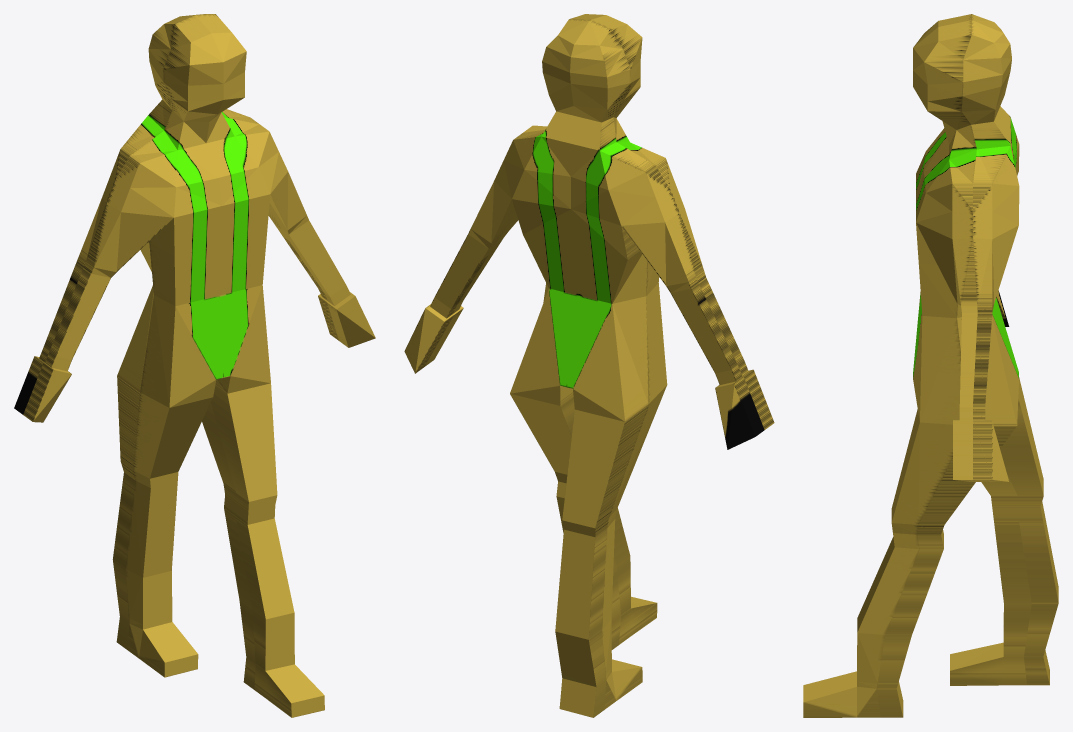
The picture shows the model from 3 angles, left to right: view 1: azimuth 30°, elevation 25°; view 2: azimuth 150°, elevation 25°; view 3: azimuth 270°, elevation 25°; orthographic projection. The views are drawn at different scales.
Parts seen in each view (by area): view 1: Borat; view 2: Borat; view 3: Borat.
Part boxes in pixels (x1=…): Borat: x1=14, y1=14, x2=375, y2=717; Borat: x1=404, y1=14, x2=774, y2=717; Borat: x1=803, y1=14, x2=1058, y2=717.
Size of the model in its own units: 1.79 by 3.23 by 1.11.
